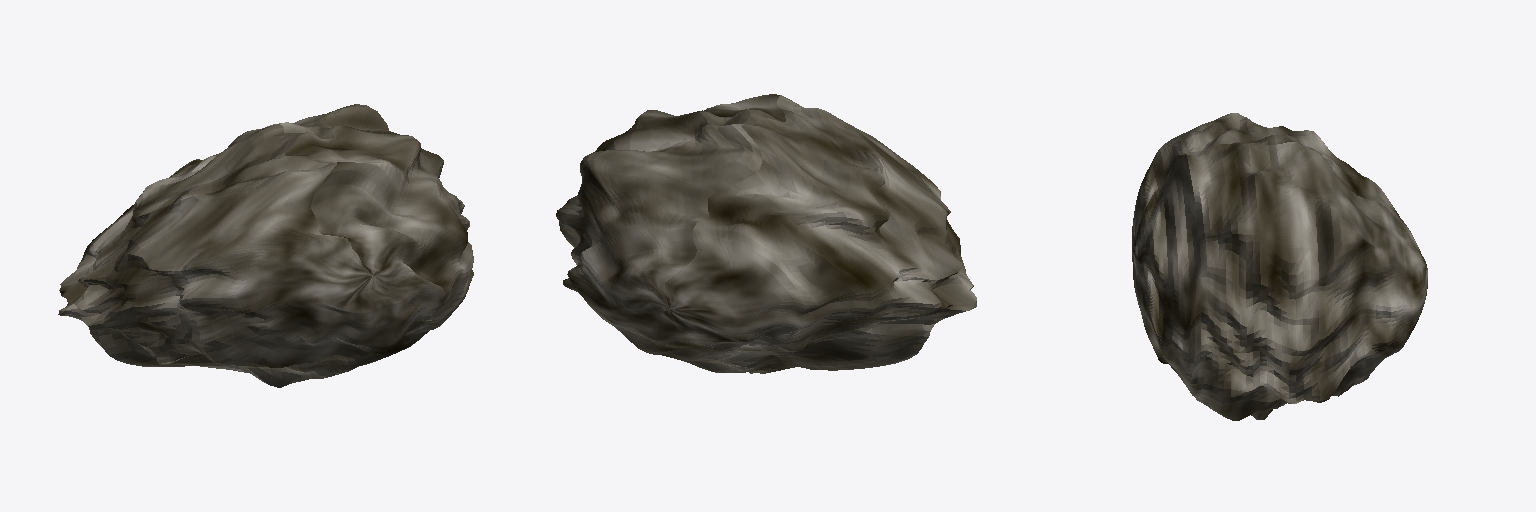
3 views of the same model, side by side, from view 1: azimuth 30°, elevation 25°; view 2: azimuth 150°, elevation 25°; view 3: azimuth 270°, elevation 25° (orthographic).
Visible parts, largest first — view 1: Sphere01; view 2: Sphere01; view 3: Sphere01.
Boxes of the visible parts, box(x1,y1,x2,y2) form: Sphere01: box(58, 104, 473, 387); Sphere01: box(556, 94, 976, 373); Sphere01: box(1132, 113, 1427, 420).
Size of the model in its own units: 39.05 by 23.17 by 24.69.
1 materials, 1 textured.